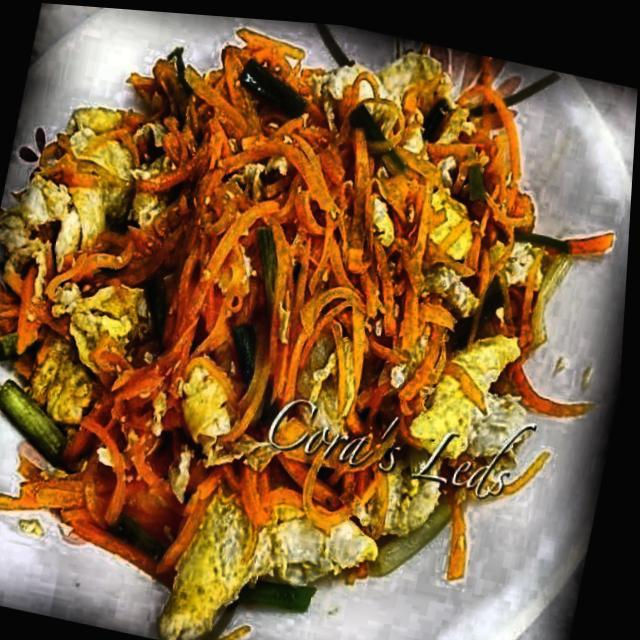Food: (0, 3, 572, 599)
